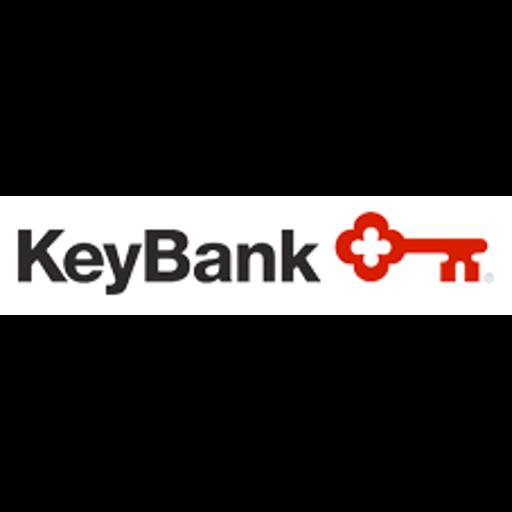Key Bank: (0, 196, 512, 315)
